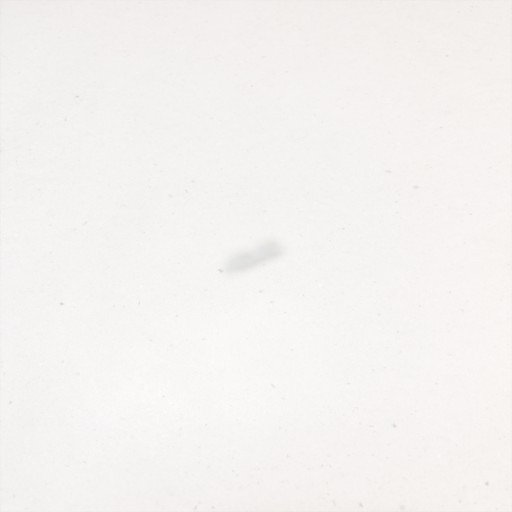lego: (220, 238, 291, 277)
